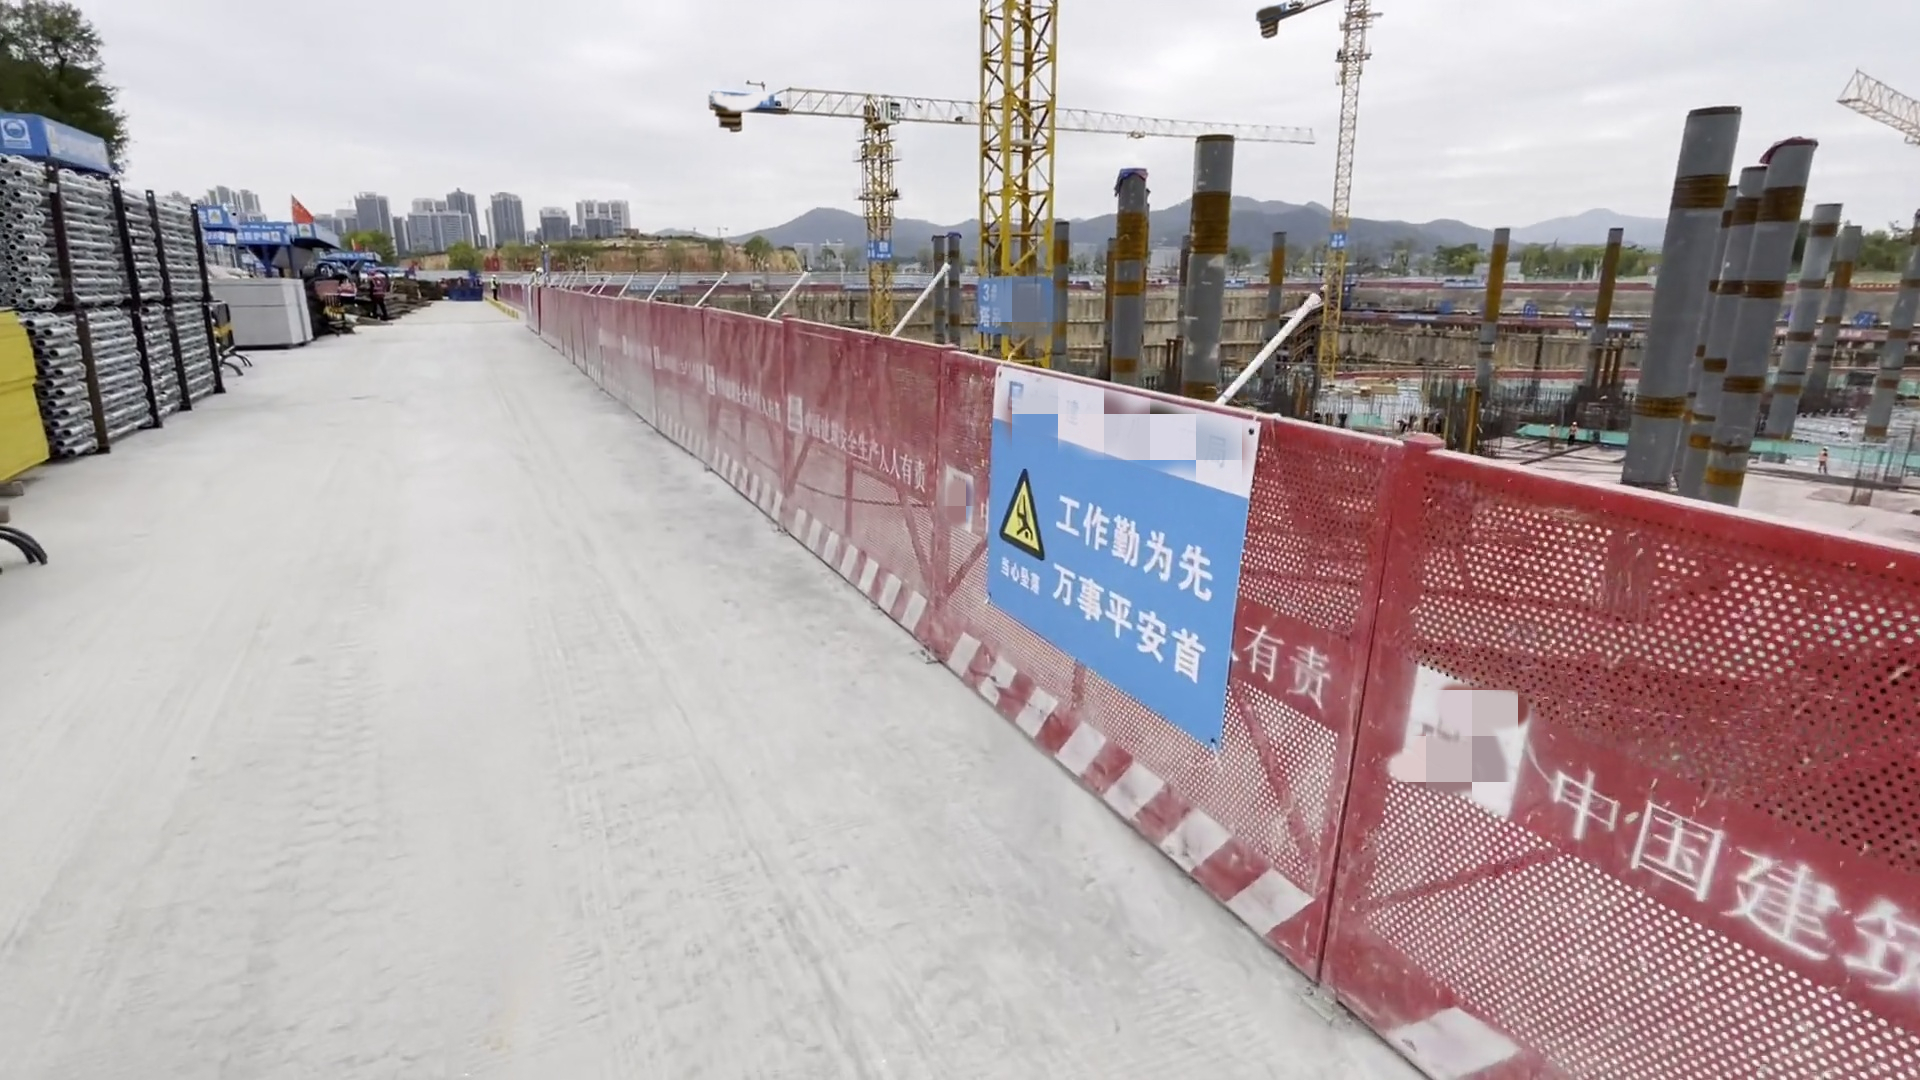brick: (214, 268, 334, 346)
fence: (1239, 428, 1911, 1080), (500, 276, 989, 669)
person: (365, 268, 386, 317), (526, 265, 540, 316), (487, 273, 502, 305)
scaffold: (1, 150, 243, 443)
slogan: (974, 464, 1234, 680)
